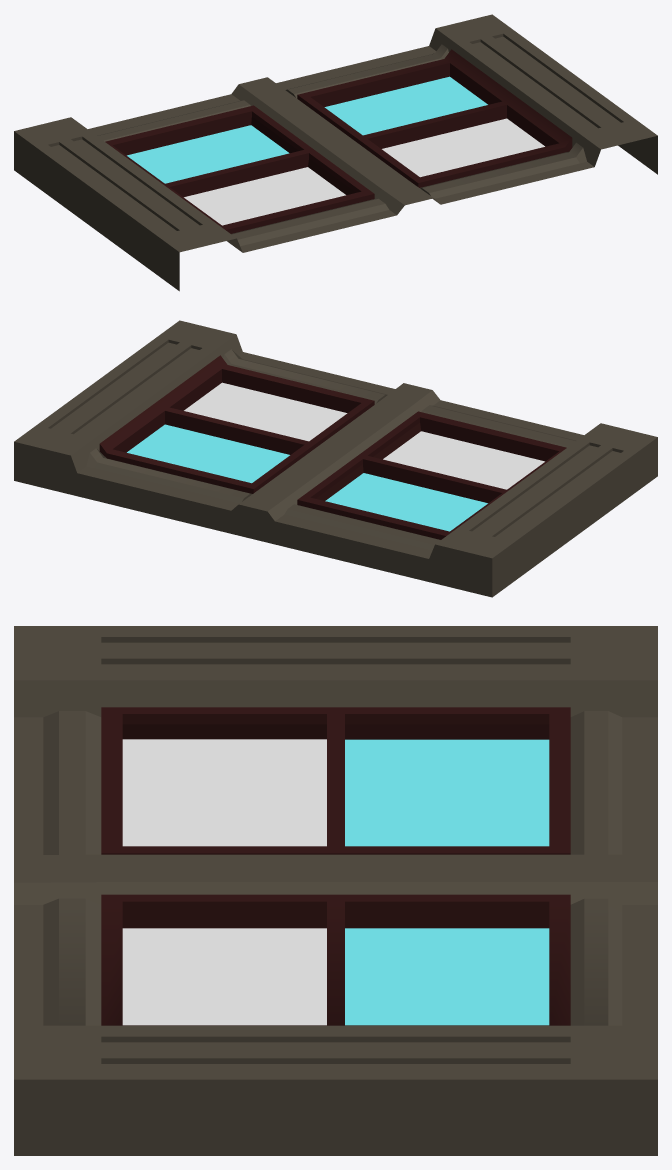
File: P_F_OLDType4SansBF.fbx
The picture shows the model from 3 angles, top to bottom: view 1: azimuth 30°, elevation 25°; view 2: azimuth 150°, elevation 25°; view 3: azimuth 270°, elevation 25°; orthographic projection. The views are drawn at different scales.
Visible parts, largest first — view 1: P_F_OLDType4SansBF; view 2: P_F_OLDType4SansBF; view 3: P_F_OLDType4SansBF.
Part boxes in pixels (x1=…): P_F_OLDType4SansBF: x1=14, y1=14, x2=657, y2=291; P_F_OLDType4SansBF: x1=14, y1=320, x2=657, y2=597; P_F_OLDType4SansBF: x1=14, y1=626, x2=657, y2=1155.
Bounding box in the file's own units: 650 × 50.86 × 390.
